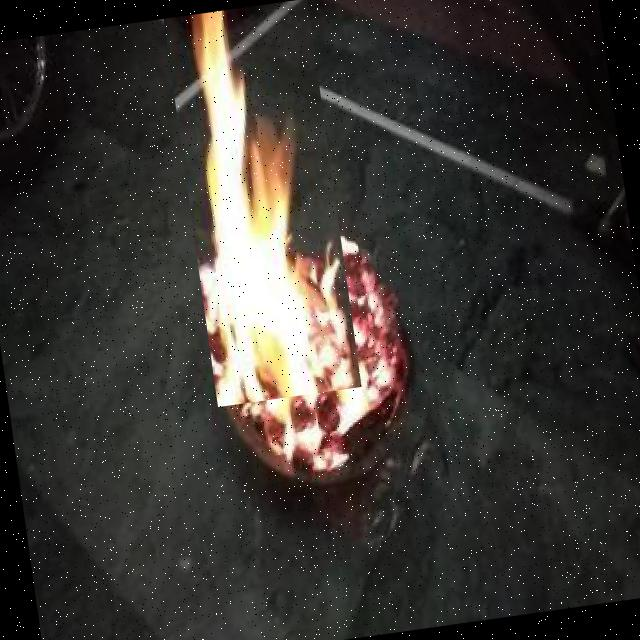fire: (163, 0, 361, 407)
